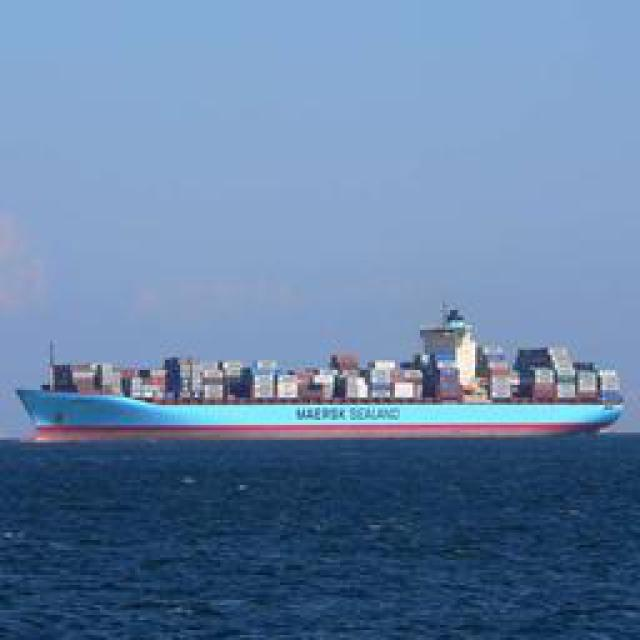Ship: (23, 332, 631, 440)
